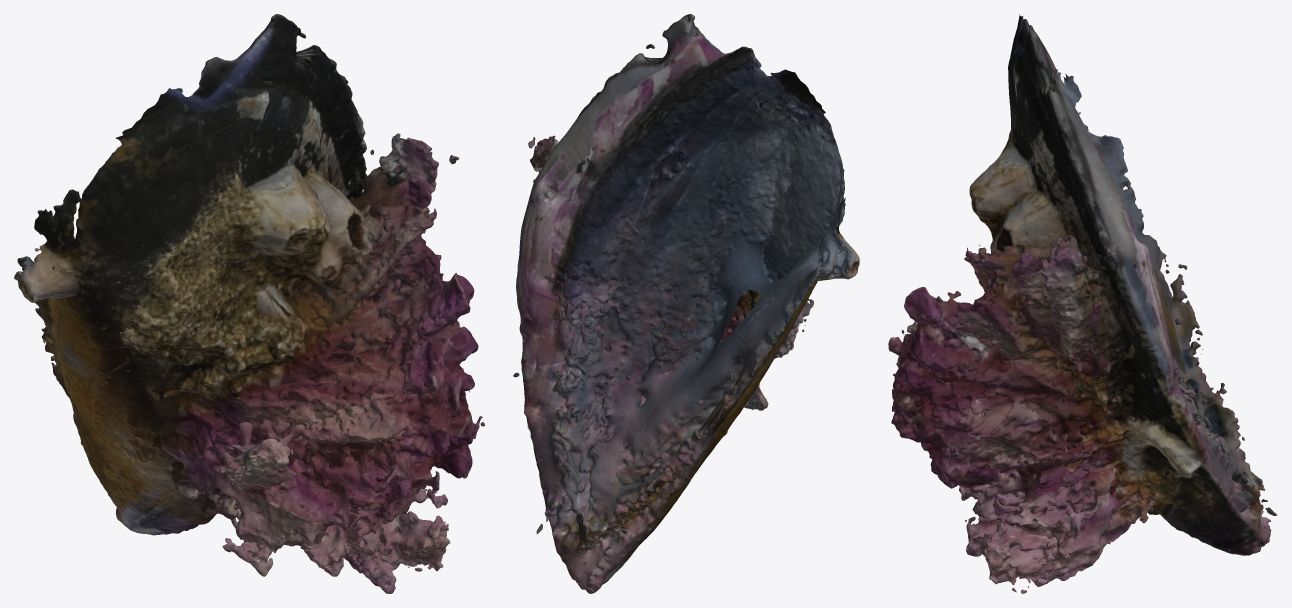
File: MZUR3D-061.glb
3 views of the same model, side by side, from view 1: azimuth 30°, elevation 25°; view 2: azimuth 150°, elevation 25°; view 3: azimuth 270°, elevation 25° (orthographic). The views are drawn at different scales.
Parts seen in each view (by area): view 1: Thais; view 2: Thais; view 3: Thais.
Boxes of the visible parts, left/top/right/bottom form: Thais: left=14, top=14, right=484, bottom=593; Thais: left=513, top=14, right=859, bottom=593; Thais: left=888, top=14, right=1277, bottom=593.
Size of the model in its own units: 0.0688 by 0.0959 by 0.064.
Materials: 1 (1 with a texture image).
